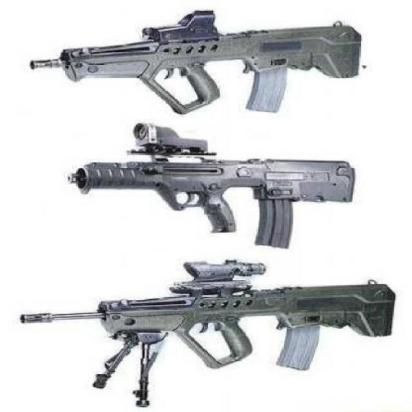Gun: (21, 249, 411, 398), (25, 105, 390, 252), (14, 0, 397, 127)
